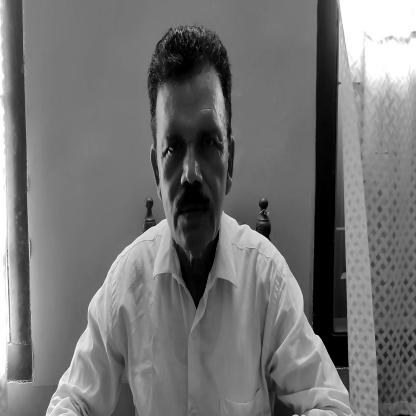Normal: (141, 34, 240, 263)
